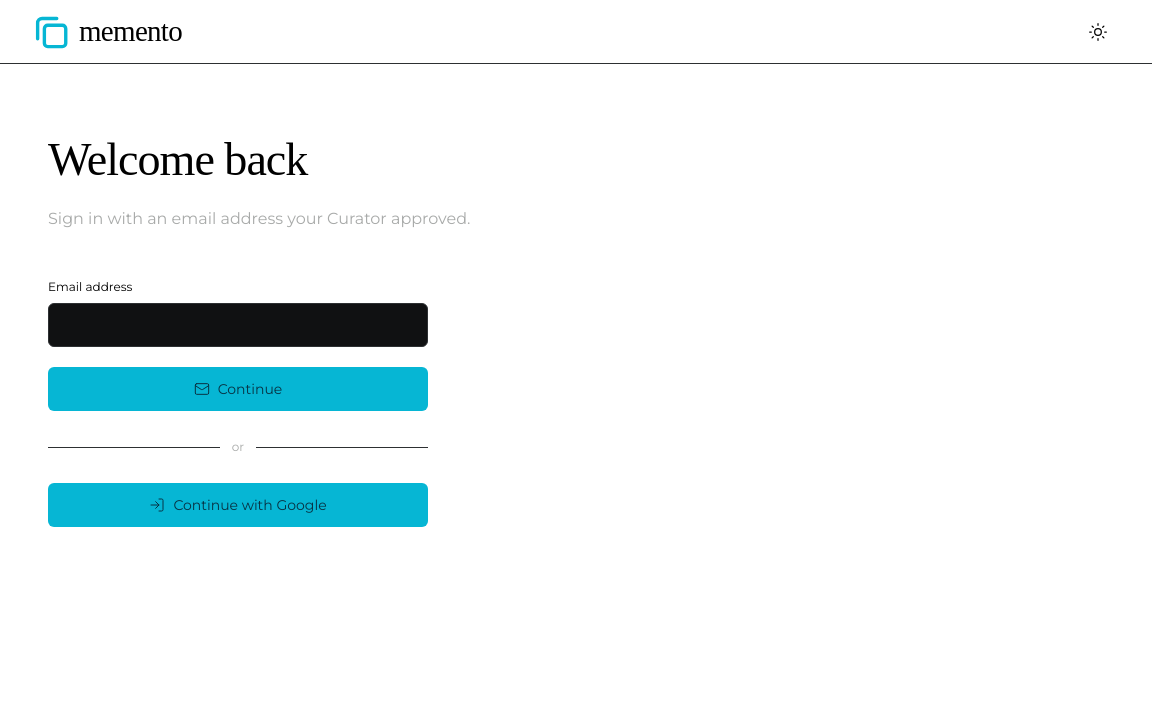
Test case: shows a wrong code beside the field and lets the Person start over
Type "alex@example.test" into the field labelled "Email address" at (238, 325), box [48,303,428,347]
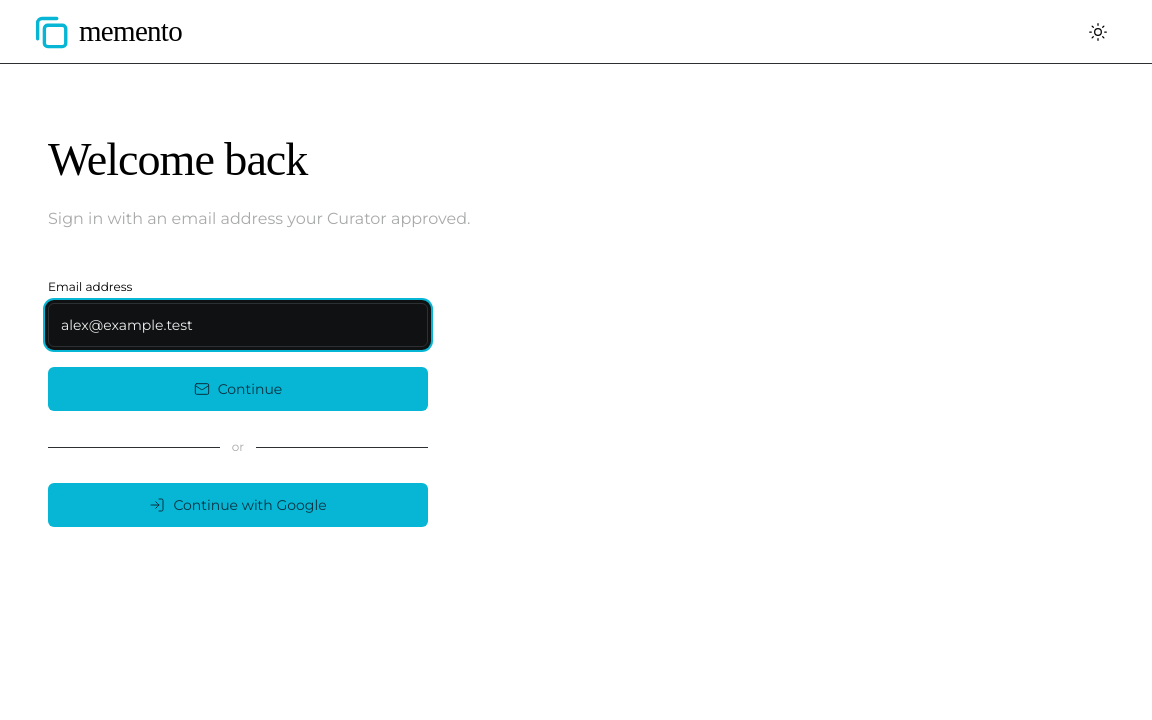
Click the button "Continue" at (238, 389), box [48,367,428,411]
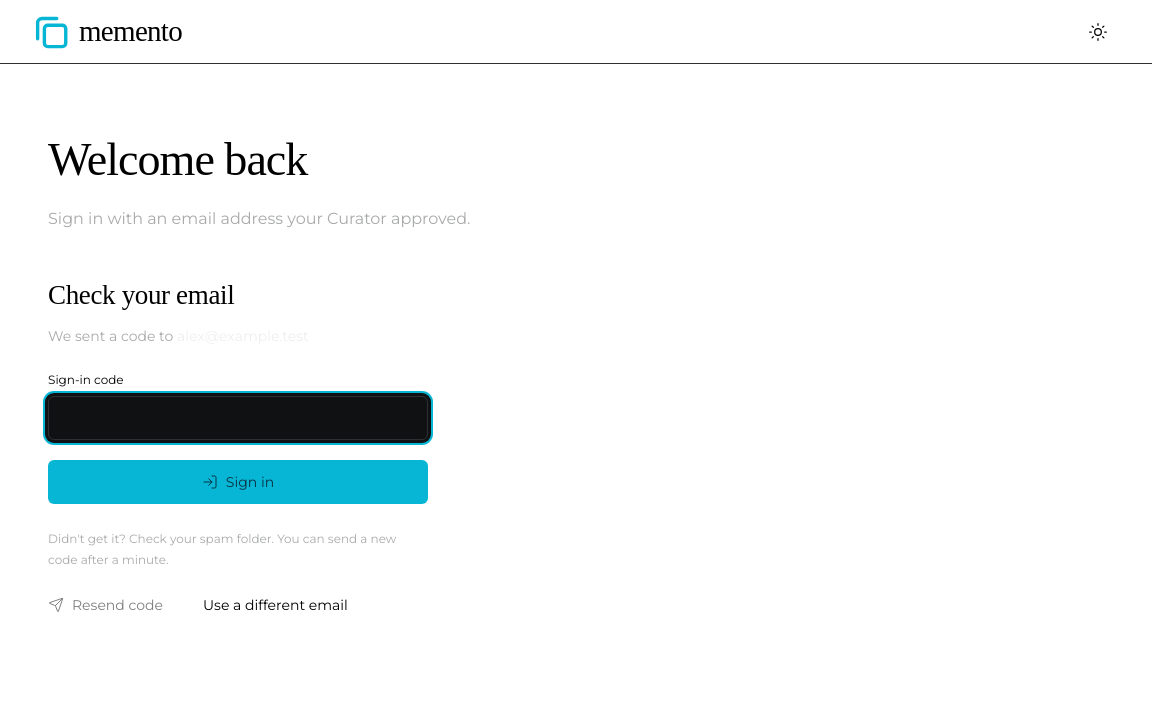
Type "111111" into the field labelled "Sign-in code" at (238, 418), box [48,396,428,440]
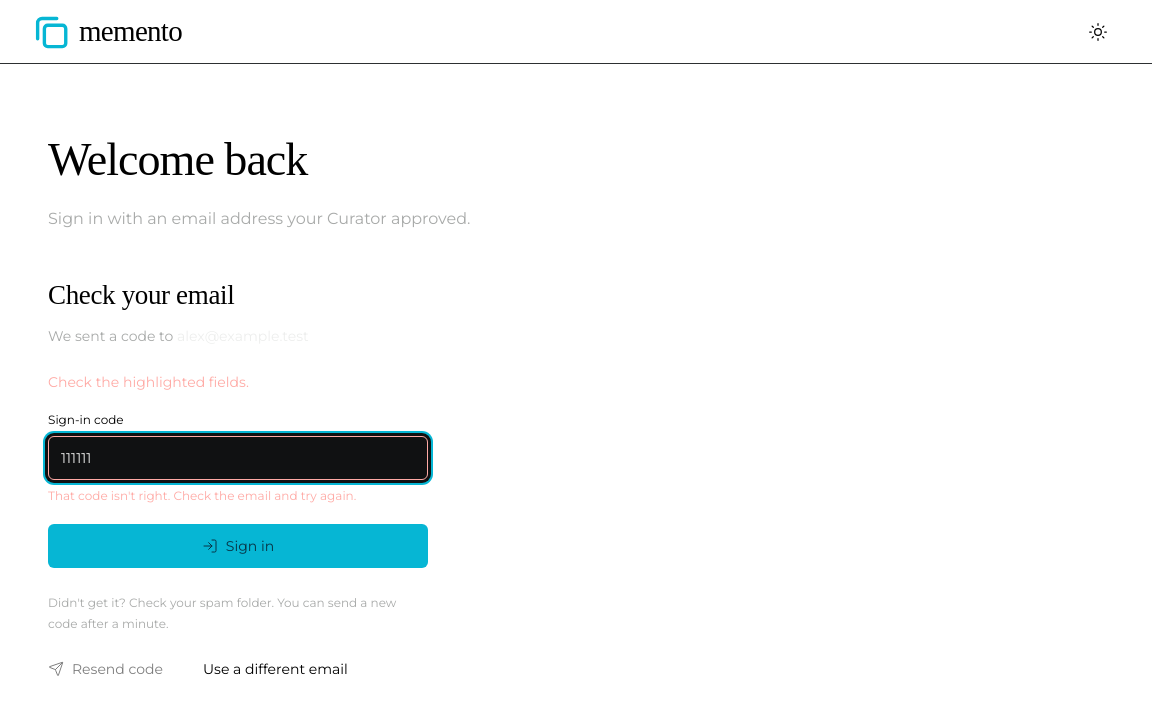
Result: the text "That code isn't right. Check the email and try again." is shown at [48,488,356,503]
Click the button "Use a different email" at (275, 669), box [187,647,364,691]
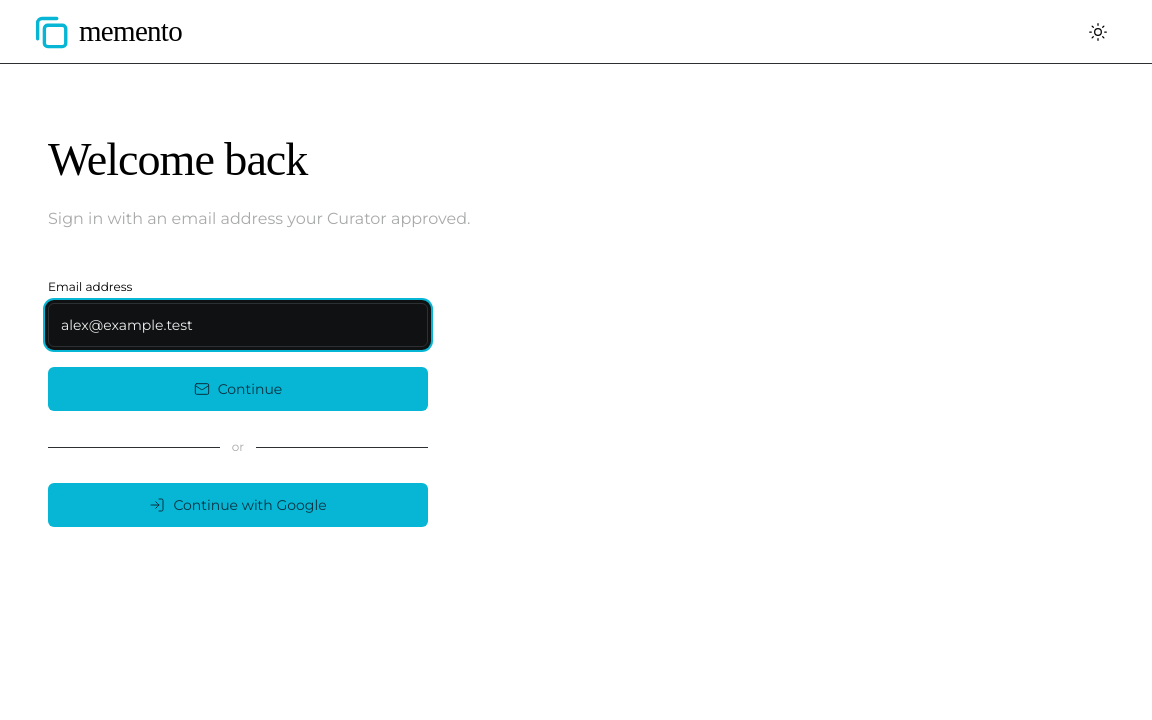
Result: the field labelled "Email address" holds "alex@example.test" at [48,303,428,347]
